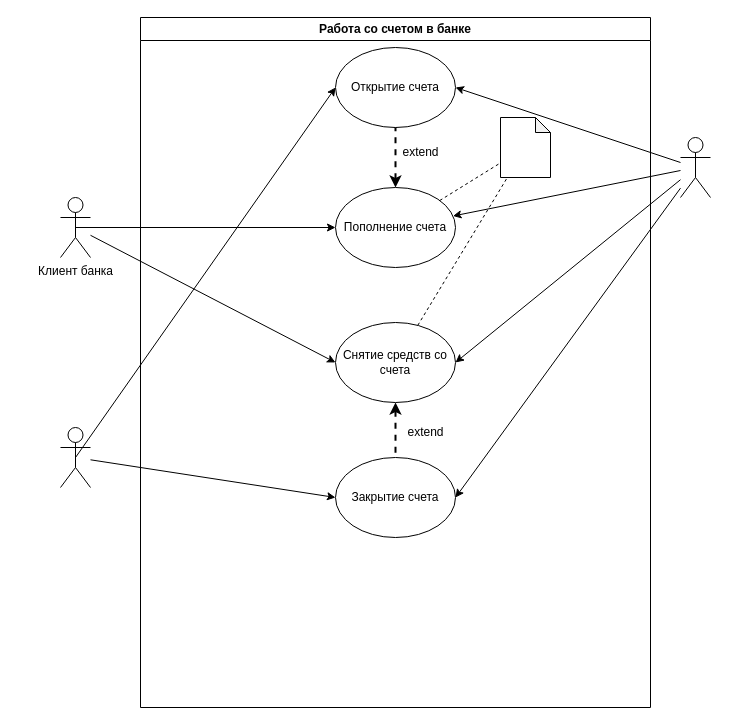
Image size: 732x725. Some labels were removed from this diagram. The shapes that lost their labels are listed below. From the top down, each one's centre as x and y in pixels, then its label:
the point at 525,147: Номер счета
the point at 695,167: Кассир
the point at 75,457: Операционист банка
